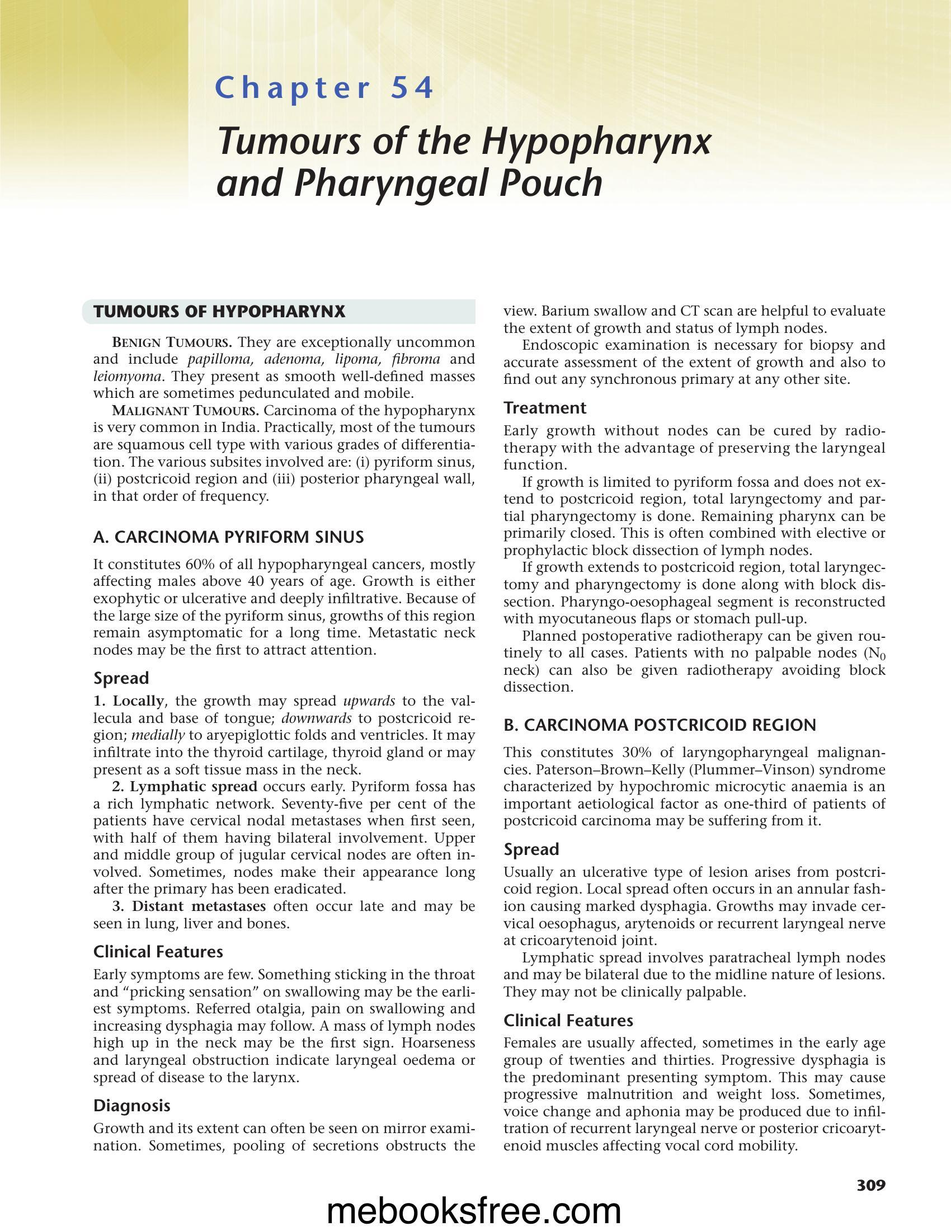chapter-heading: (215, 125, 712, 207)
list: (92, 694, 476, 933)
section-heading: (92, 304, 347, 319)
sub-section-heading: (504, 717, 817, 732), (92, 529, 365, 544), (503, 1012, 634, 1027), (93, 944, 224, 958), (93, 1098, 171, 1116), (503, 400, 588, 415), (93, 670, 150, 689), (503, 841, 560, 860)
text: (503, 424, 886, 693), (92, 334, 476, 506), (502, 865, 886, 1001), (503, 1035, 886, 1155), (93, 968, 476, 1087), (92, 557, 476, 659), (503, 745, 887, 831), (503, 304, 886, 388), (93, 1121, 476, 1155)
